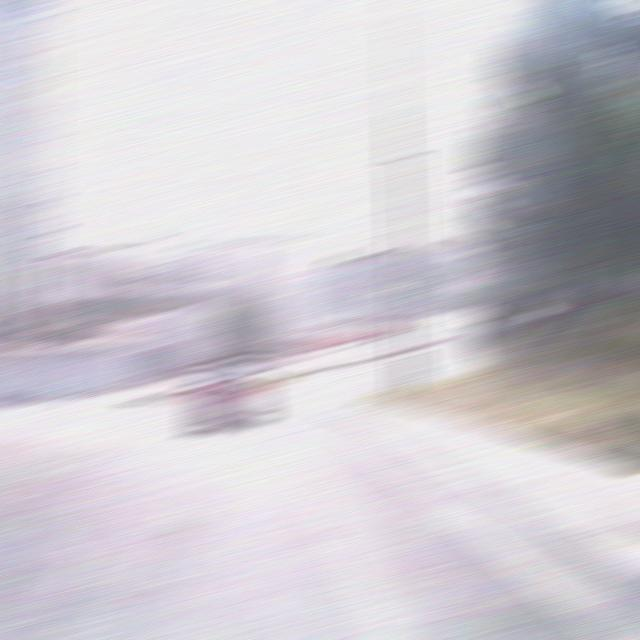stop_sign: (369, 315, 402, 338)
